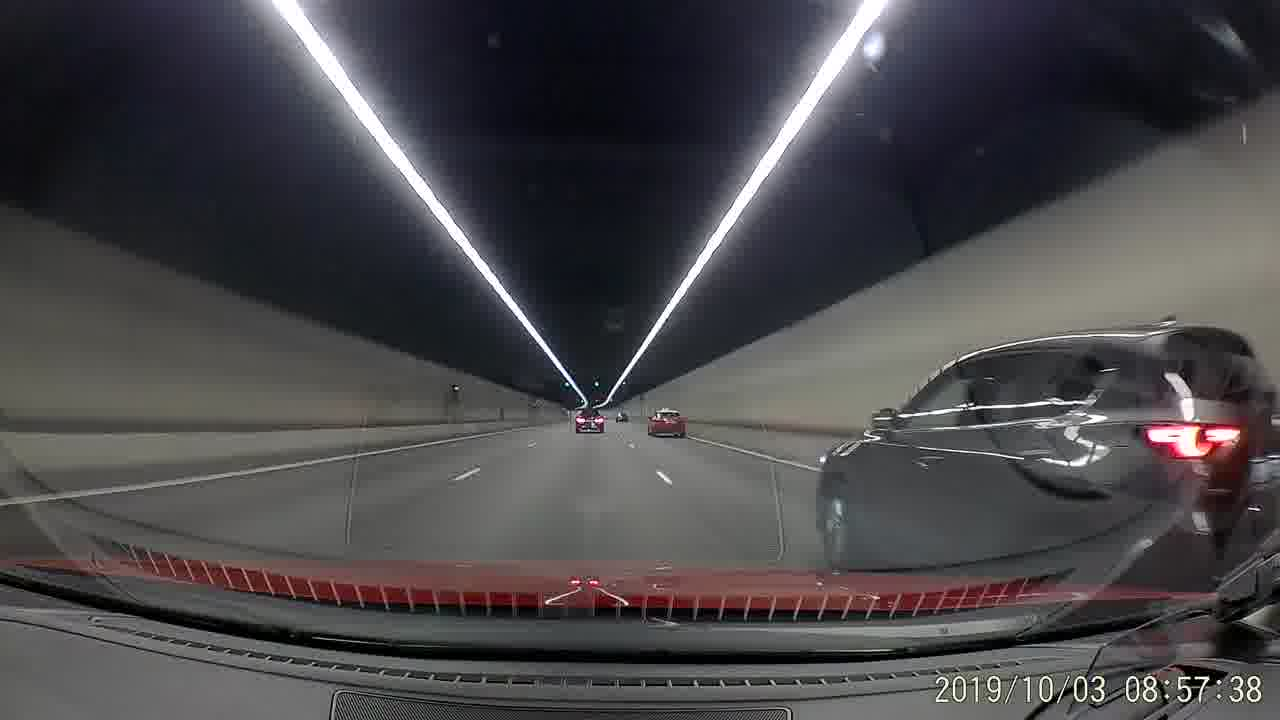car: (818, 325, 1277, 568), (643, 406, 687, 439), (574, 406, 606, 436), (613, 408, 629, 423)
